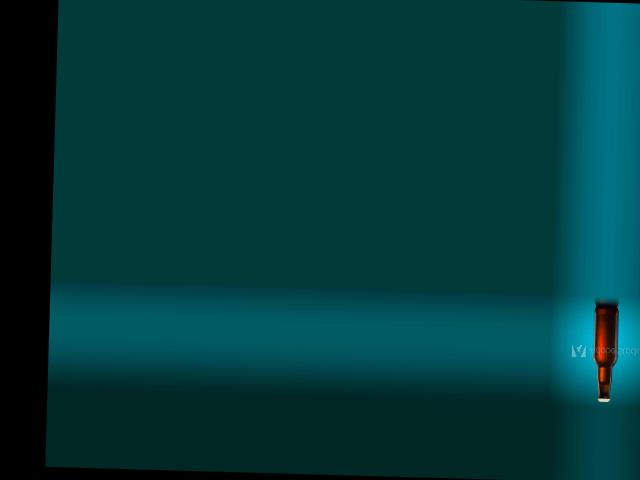beer: (592, 305, 619, 401)
